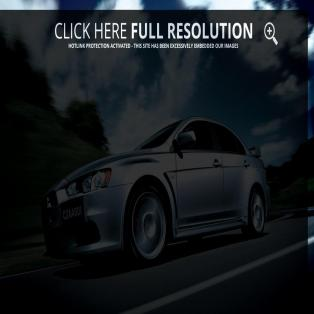Auto: (41, 113, 276, 276)
